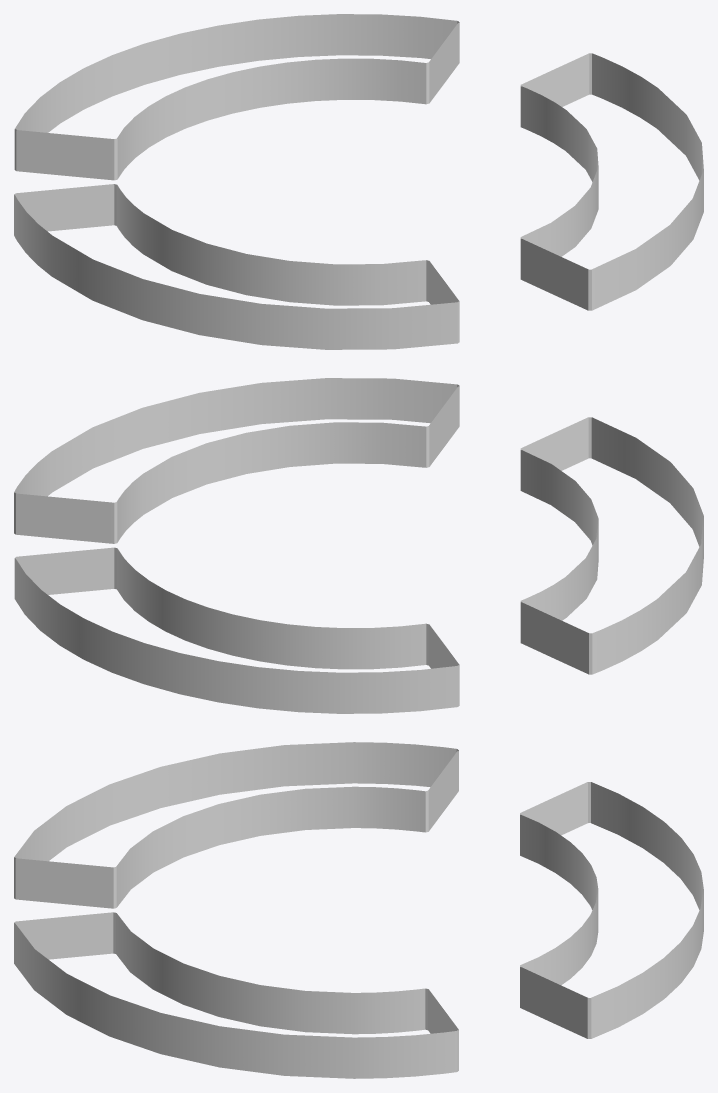
The model's file is fanwei_01.FBX.
The picture shows the model from 3 angles, top to bottom: view 1: azimuth 30°, elevation 25°; view 2: azimuth 150°, elevation 25°; view 3: azimuth 270°, elevation 25°; orthographic projection.
Visible parts, largest first — view 1: guangdai_01; view 2: guangdai_01; view 3: guangdai_01.
Boxes of the visible parts, x1,y1,x2,y2 form: guangdai_01: (14, 14, 703, 349); guangdai_01: (14, 378, 703, 713); guangdai_01: (14, 742, 703, 1078).
Bounding box in the file's own units: 8.52 × 0.55 × 8.4.
